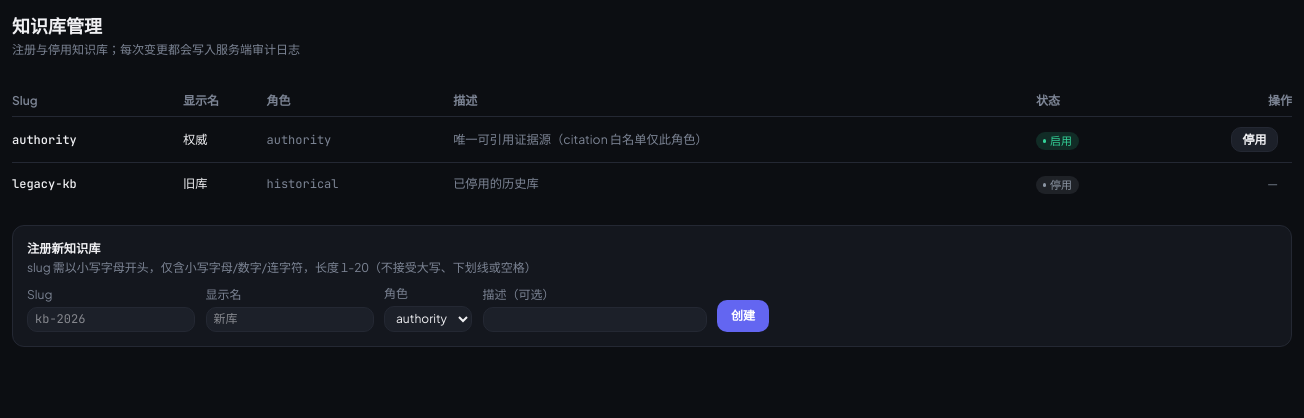
KnowledgeBaseList — deactivate verb › shows the backend error copy when deactivate is refused
Expected: the row with test id "kb-row-authority" is shown, [12,116,1292,163]
Step 1. Click the button with test id "kb-deactivate-authority" → (1254, 140), box [1231,127,1278,152]
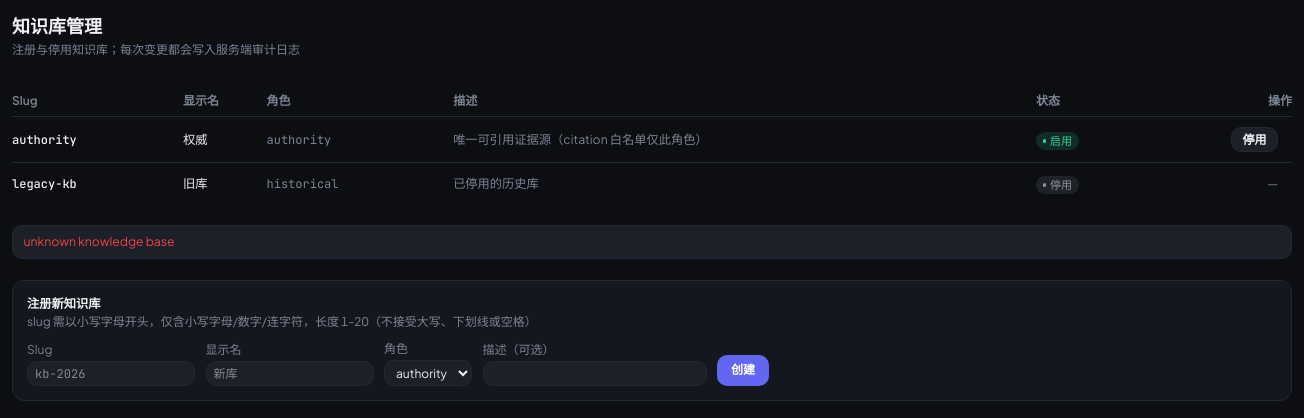
Result: the message with test id "kb-action-error" reads "unknown knowledge base" at [24,233,175,249]
